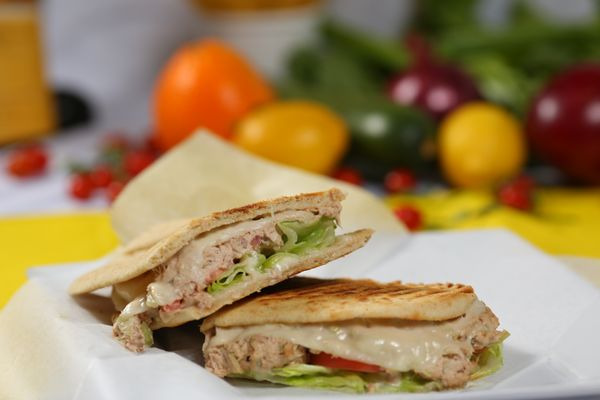soup: (66, 124, 377, 352), (202, 276, 508, 392)
steak: (525, 57, 600, 185)
taco: (147, 35, 278, 151), (229, 98, 354, 175), (435, 99, 528, 190)
